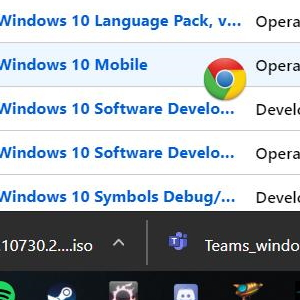chrome: (203, 57, 247, 102)
